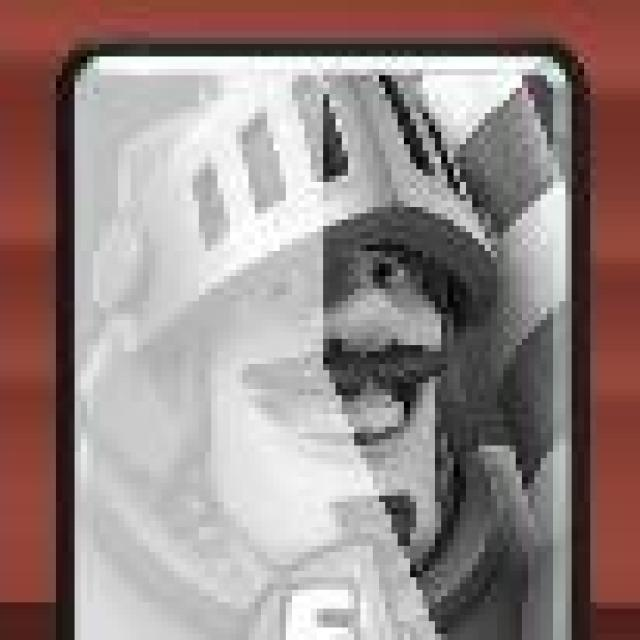Prince: (58, 34, 590, 640)
